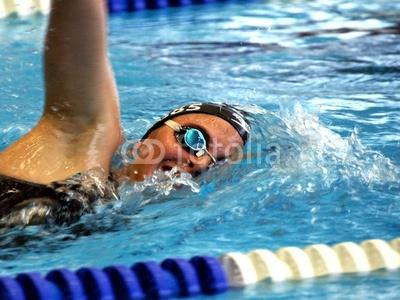human: (0, 1, 263, 246)
